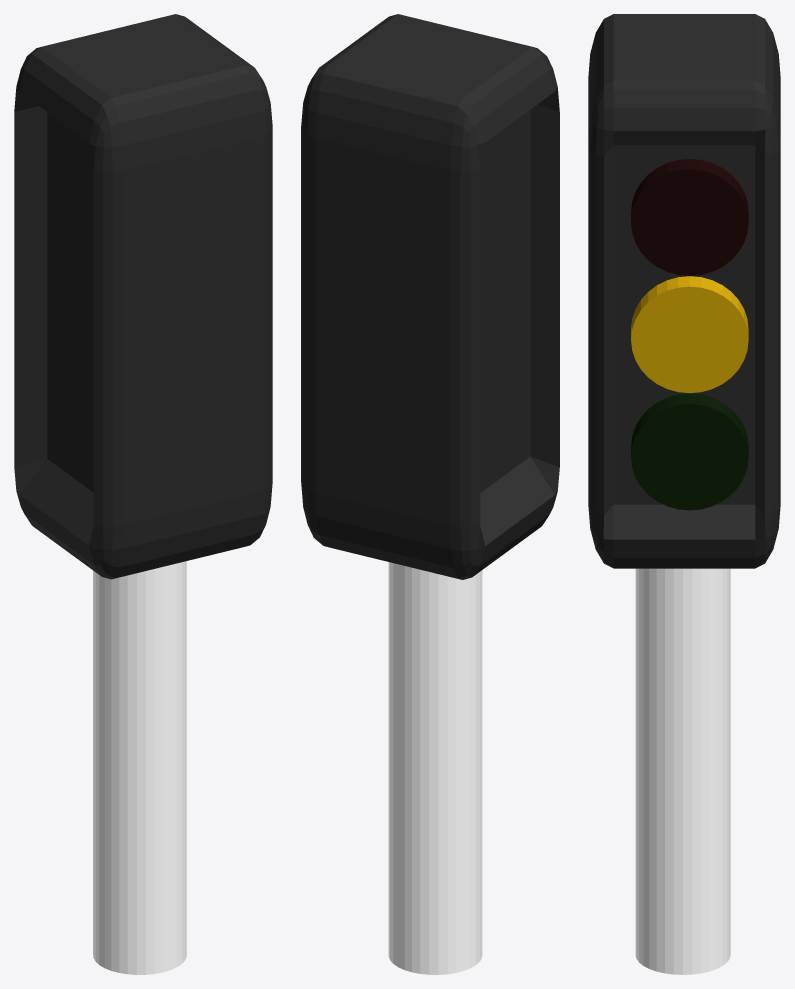
The model's file is TR.YELLOW.glb.
3 views of the same model, side by side, from view 1: azimuth 30°, elevation 25°; view 2: azimuth 150°, elevation 25°; view 3: azimuth 270°, elevation 25° (orthographic).
Visible parts, largest first — view 1: Cube, Cylinder; view 2: Cube, Cylinder; view 3: Cube, Cylinder, Cylinder.004, Cylinder.003, Cylinder.002.
Part boxes in pixels (x1=…): Cube: x1=14, y1=14, x2=272, y2=579; Cylinder: x1=93, y1=561, x2=186, y2=974; Cube: x1=301, y1=14, x2=559, y2=579; Cylinder: x1=388, y1=562, x2=482, y2=974; Cube: x1=588, y1=14, x2=780, y2=568; Cylinder: x1=635, y1=568, x2=730, y2=974; Cylinder.004: x1=631, y1=393, x2=748, y2=510; Cylinder.003: x1=631, y1=276, x2=748, y2=393; Cylinder.002: x1=631, y1=159, x2=748, y2=275.
Size of the model in its own units: 2.02 by 9.69 by 1.86.
